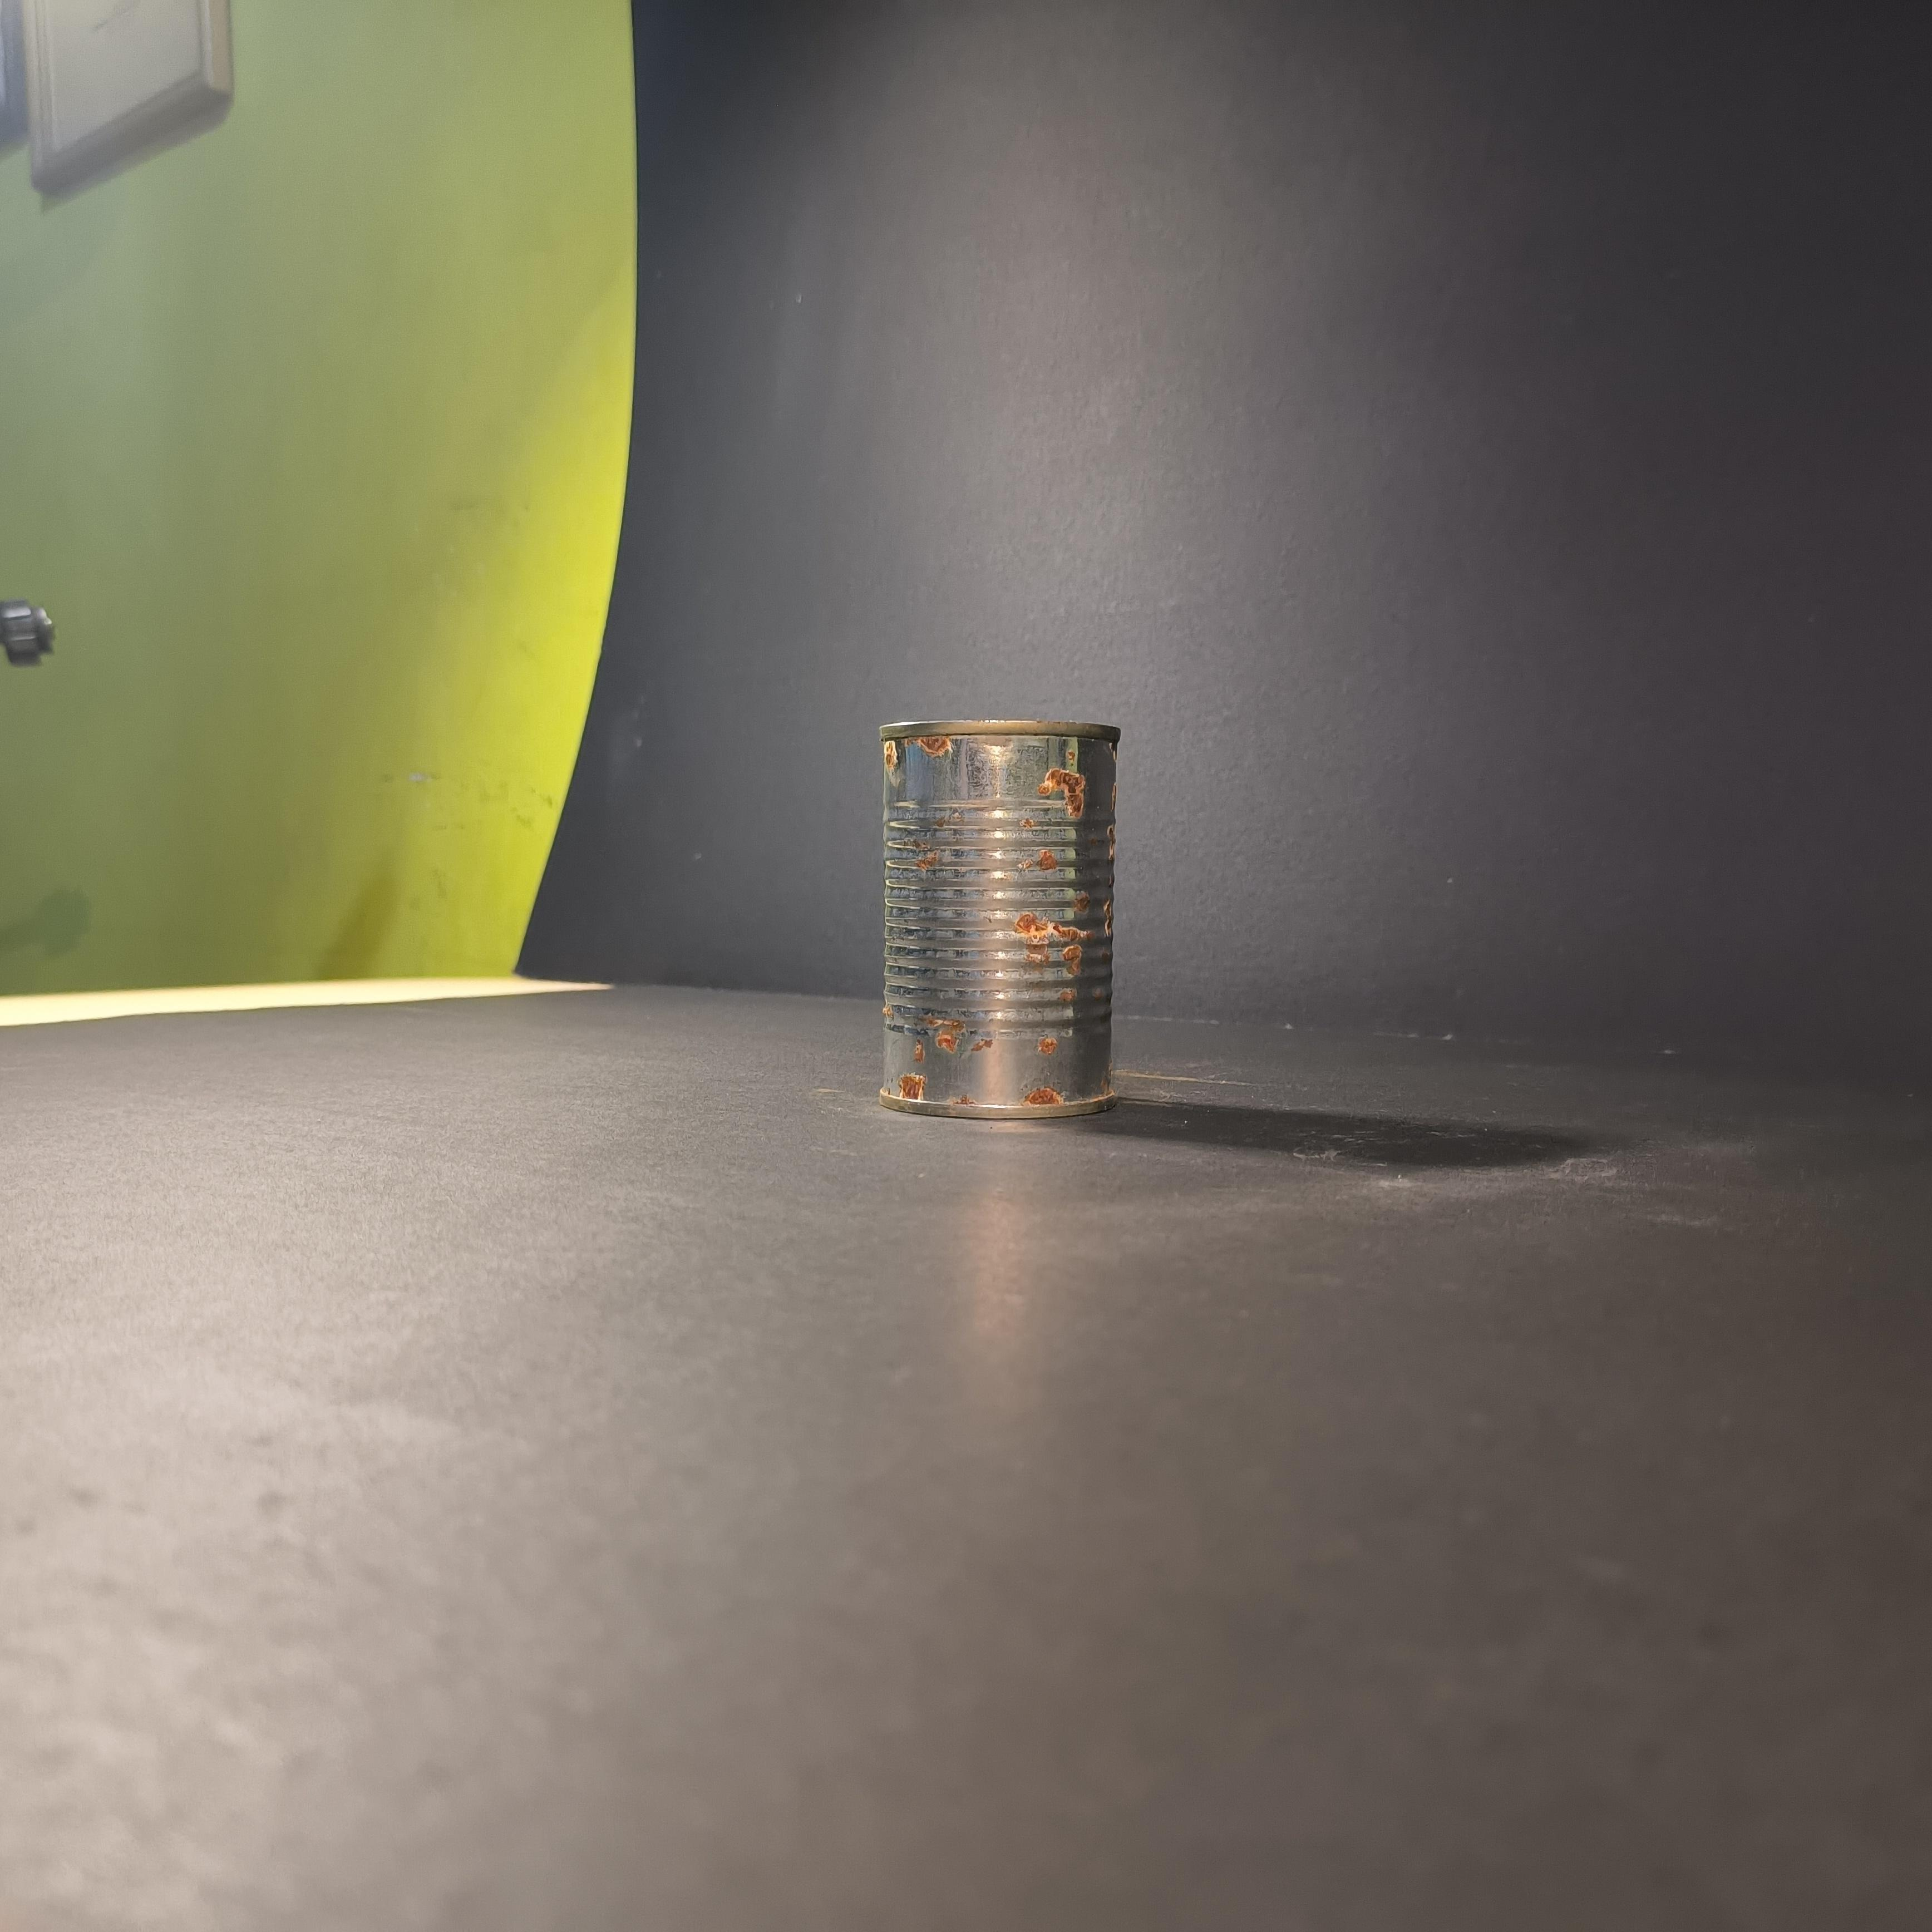Rusted: (869, 695, 1132, 1132)
